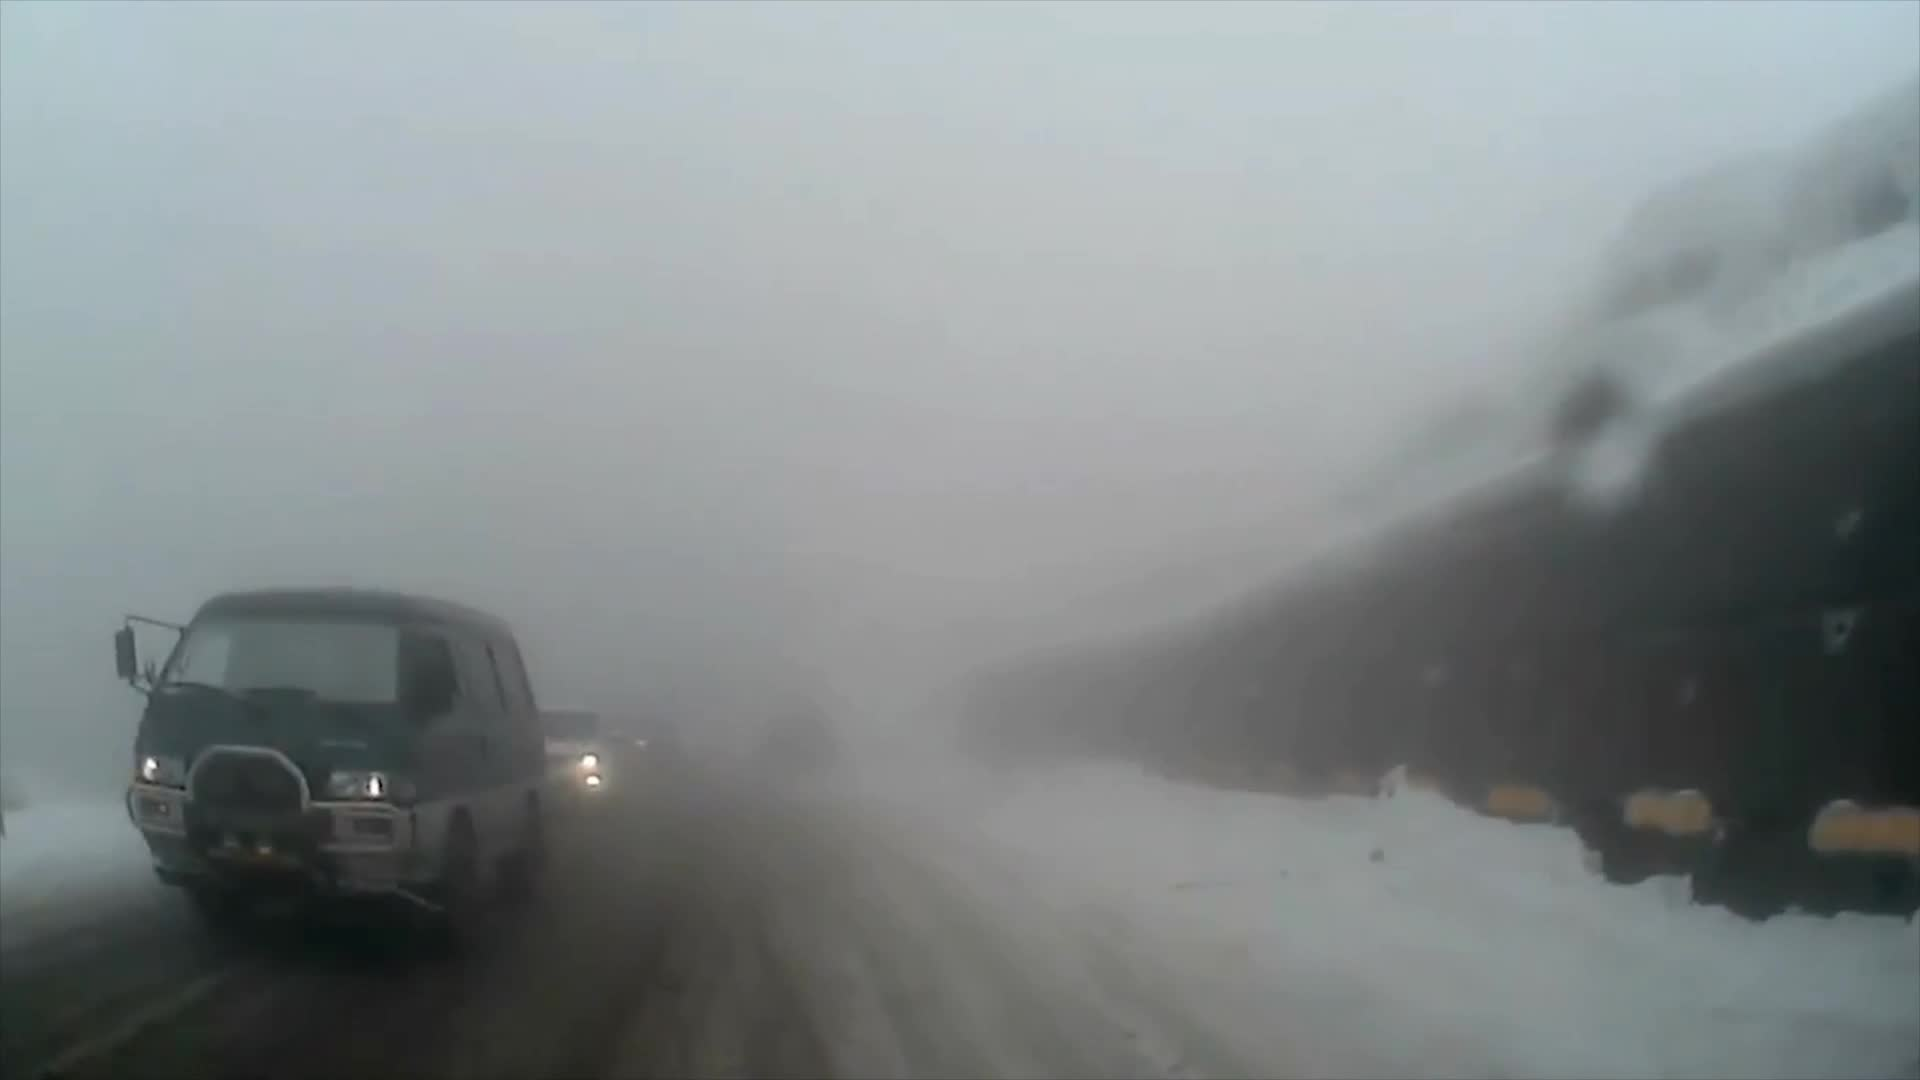vehicle: (108, 582, 549, 973), (498, 702, 620, 812)
